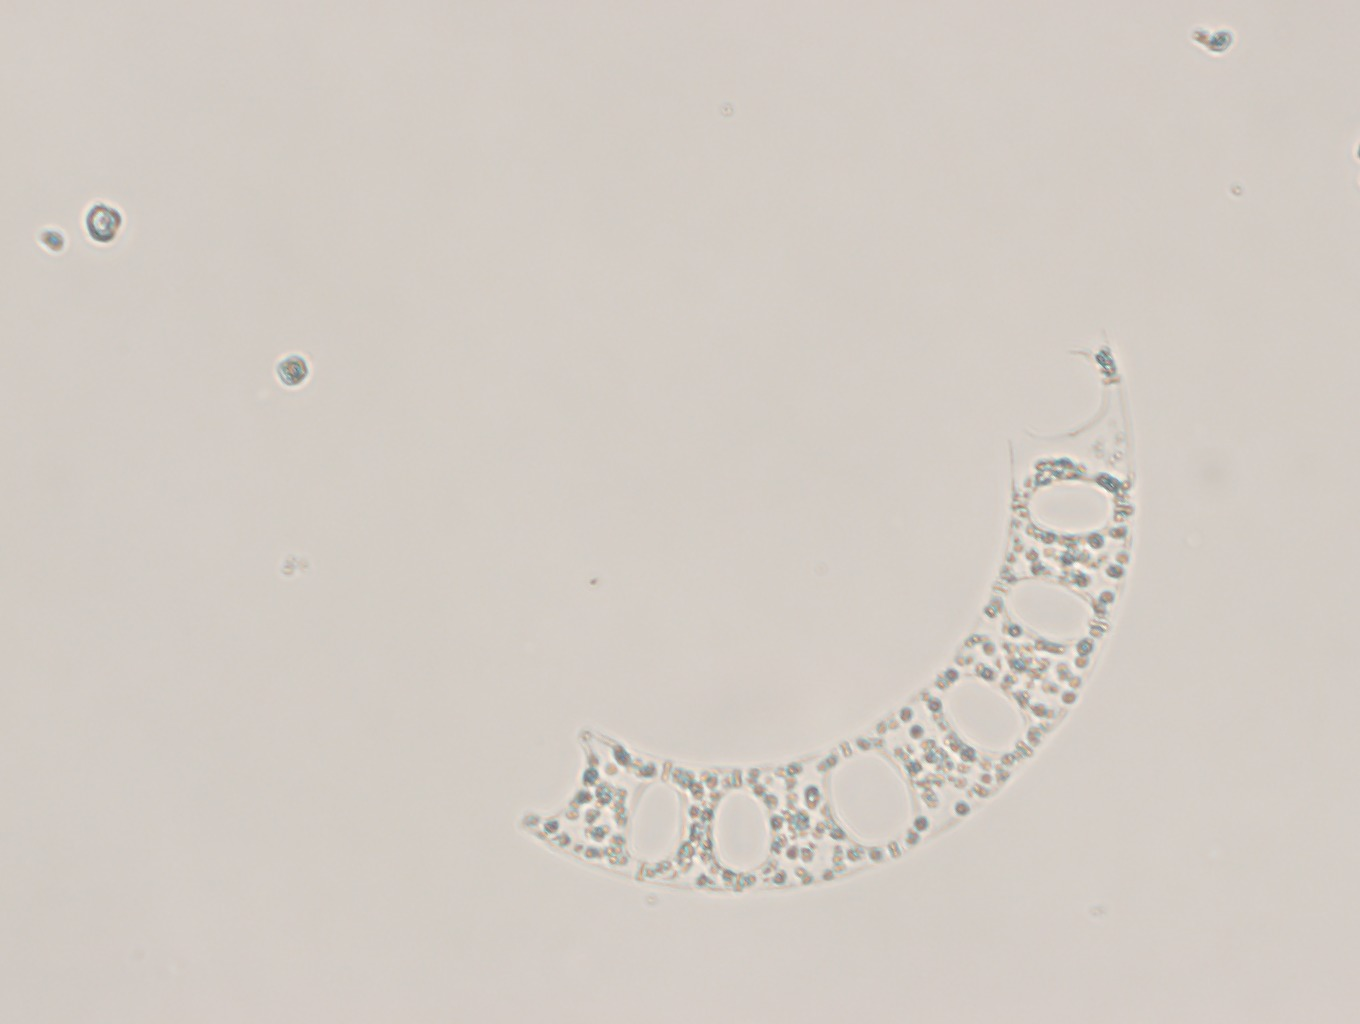eucampia: (522, 335, 1137, 896)
